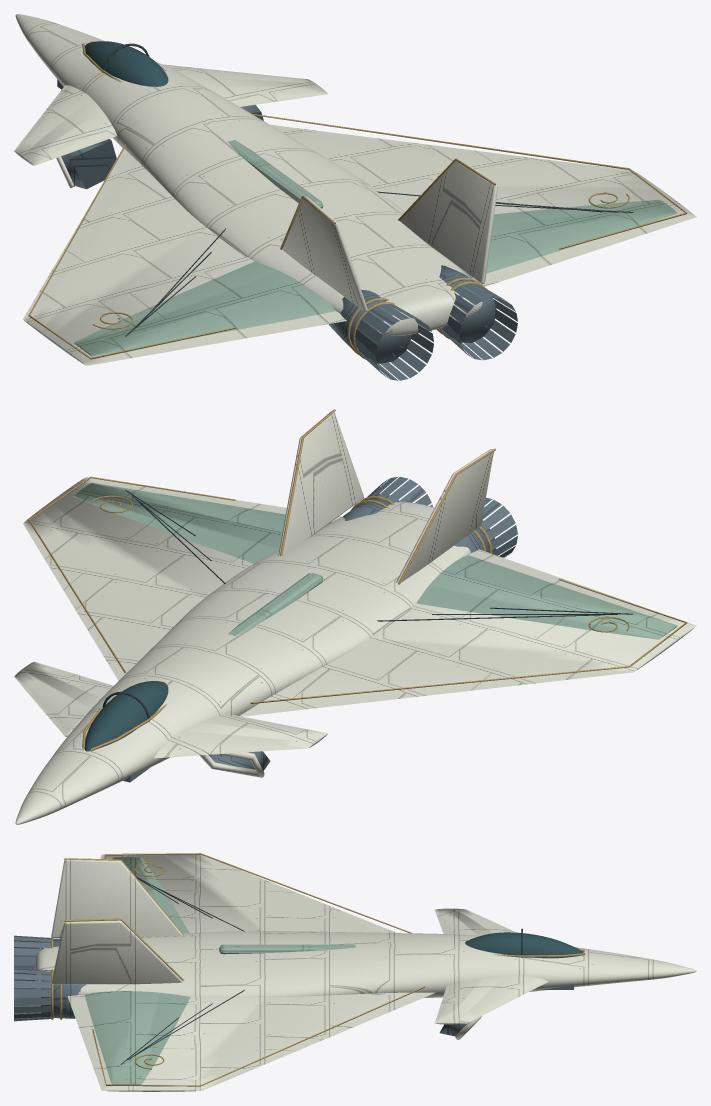
Rendered from qingluan.glb.
3 views of the same model, one above another, from view 1: azimuth 30°, elevation 25°; view 2: azimuth 150°, elevation 25°; view 3: azimuth 270°, elevation 25° (orthographic). The views are drawn at different scales.
Visible parts, largest first — view 1: ceramic-surfaces, celadon-surfaces, titanium-surfaces, brass-surfaces, graphite-surfaces, glass-surfaces; view 2: ceramic-surfaces, celadon-surfaces, brass-surfaces, titanium-surfaces, glass-surfaces, graphite-surfaces; view 3: ceramic-surfaces, celadon-surfaces, titanium-surfaces, brass-surfaces, glass-surfaces, graphite-surfaces.
Part boxes in pixels (bbox=[...]): ceramic-surfaces: bbox=[14, 14, 696, 365]; celadon-surfaces: bbox=[73, 140, 677, 356]; titanium-surfaces: bbox=[57, 79, 517, 380]; brass-surfaces: bbox=[28, 41, 687, 359]; graphite-surfaces: bbox=[70, 43, 633, 336]; glass-surfaces: bbox=[85, 41, 168, 86]; ceramic-surfaces: bbox=[14, 411, 696, 824]; celadon-surfaces: bbox=[73, 482, 677, 639]; brass-surfaces: bbox=[28, 409, 687, 751]; titanium-surfaces: bbox=[123, 476, 517, 782]; glass-surfaces: bbox=[85, 681, 168, 751]; graphite-surfaces: bbox=[102, 490, 633, 721]; ceramic-surfaces: bbox=[34, 853, 696, 1091]; celadon-surfaces: bbox=[84, 857, 355, 1084]; titanium-surfaces: bbox=[14, 935, 573, 1036]; brass-surfaces: bbox=[51, 853, 584, 1086]; glass-surfaces: bbox=[465, 932, 584, 958]; graphite-surfaces: bbox=[120, 876, 522, 1064].
Size of the model in its own units: 8.3 by 1.86 by 10.15.
Materials: 6 (5 with a texture image).
